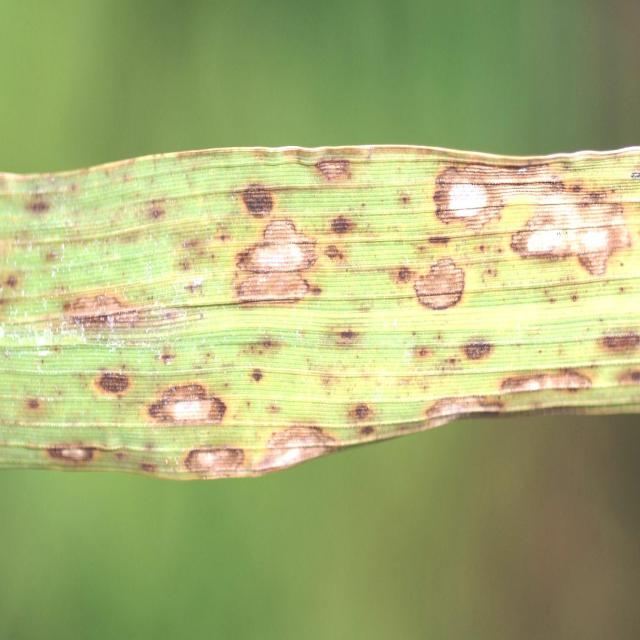Brown_Spot: (230, 213, 342, 324), (496, 192, 627, 277), (423, 138, 508, 227), (139, 357, 239, 431), (51, 278, 188, 332), (497, 335, 607, 400), (383, 249, 486, 316), (245, 408, 343, 478), (43, 429, 162, 480), (592, 306, 640, 430), (417, 378, 499, 432), (77, 336, 137, 402), (443, 306, 504, 362), (232, 165, 284, 226), (304, 149, 359, 185), (351, 390, 381, 449), (18, 188, 56, 230)
